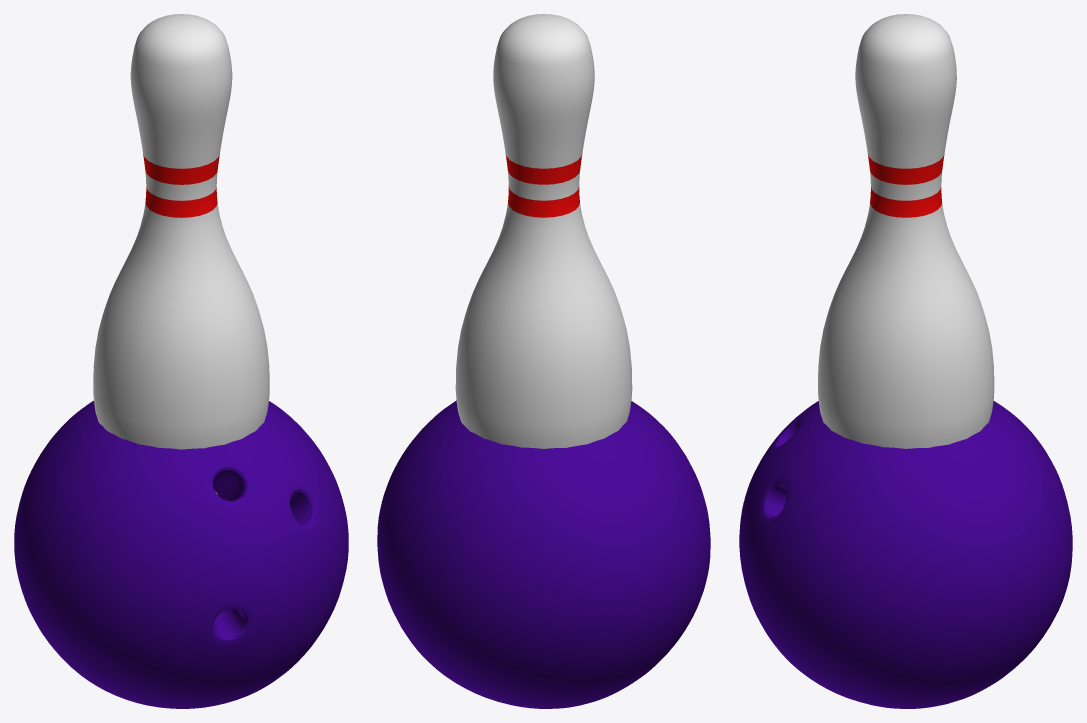
The model's file is Bowling.fbx.
The picture shows the model from 3 angles, left to right: view 1: azimuth 30°, elevation 25°; view 2: azimuth 150°, elevation 25°; view 3: azimuth 270°, elevation 25°; orthographic projection.
Parts seen in each view (by area): view 1: Icosphere, Pin Profile; view 2: Icosphere, Pin Profile; view 3: Icosphere, Pin Profile.
Part boxes in pixels (x1,y1,x2,y2): Icosphere: (14,400,348,708); Pin Profile: (93,14,269,494); Icosphere: (377,400,710,708); Pin Profile: (455,14,632,448); Icosphere: (739,401,1072,708); Pin Profile: (818,14,994,448).
Size of the model in its own units: 21.55 by 48.04 by 21.59.
